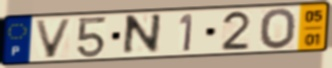1: (178, 12, 194, 54)
2: (220, 9, 253, 53)
5: (75, 16, 109, 59)
N: (120, 12, 164, 58)
O: (258, 7, 298, 51)
V: (33, 17, 75, 59)
